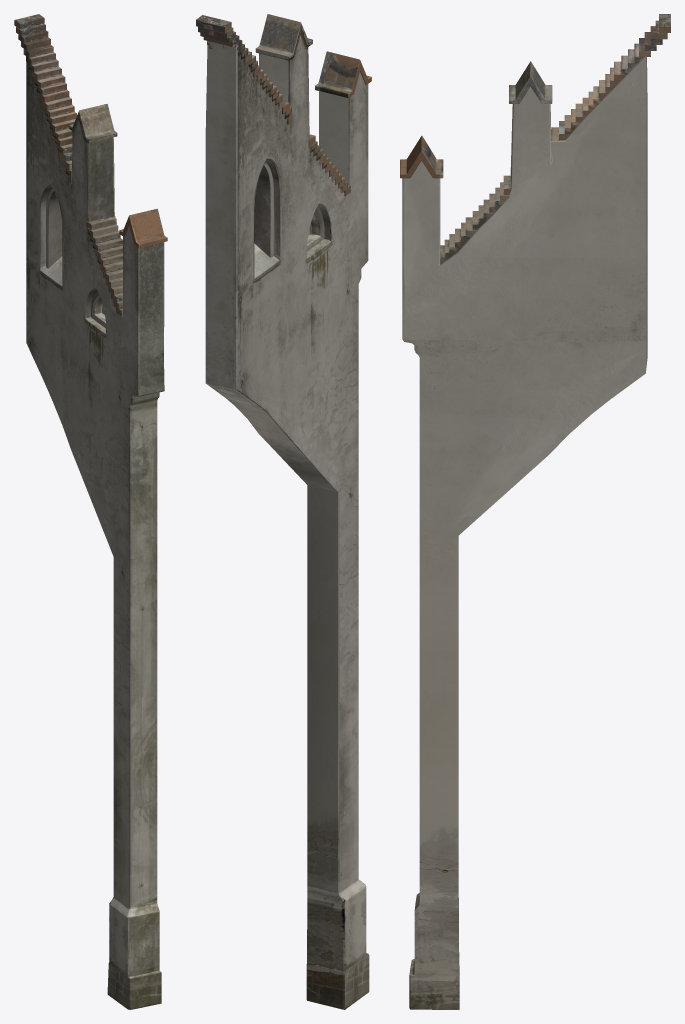
Rendered from sm_Church_01_10.fbx.
3 views of the same model, side by side, from view 1: azimuth 30°, elevation 25°; view 2: azimuth 150°, elevation 25°; view 3: azimuth 270°, elevation 25° (orthographic). The views are drawn at different scales.
Visible parts, largest first — view 1: sm_Church_01_10_LOD0; view 2: sm_Church_01_10_LOD0; view 3: sm_Church_01_10_LOD0.
Boxes of the visible parts, left/top/right/bottom form: sm_Church_01_10_LOD0: left=14, top=14, right=167, bottom=1009; sm_Church_01_10_LOD0: left=196, top=14, right=371, bottom=1009; sm_Church_01_10_LOD0: left=400, top=14, right=670, bottom=1009.
Size of the model in its own units: 43.64 by 286 by 1144.
